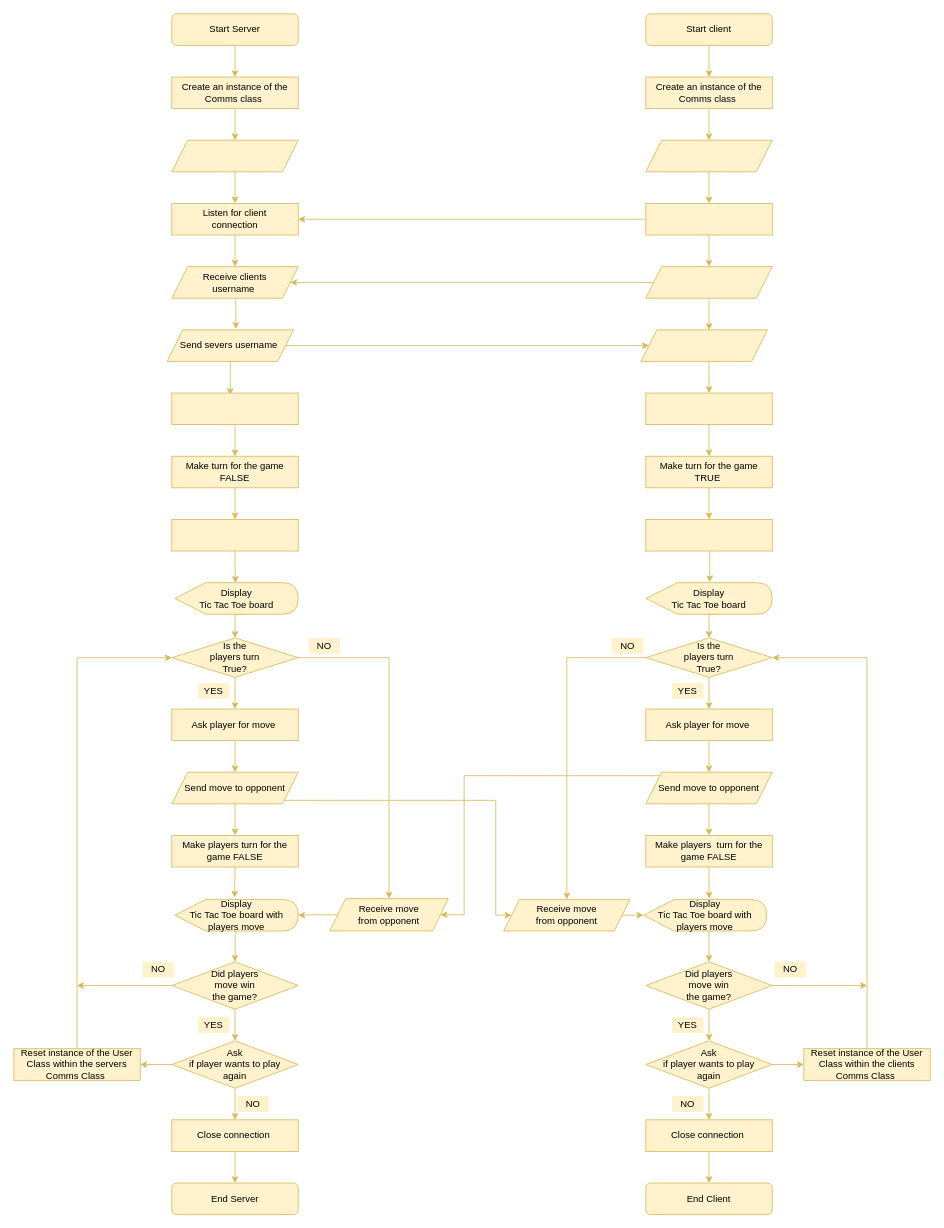
Some shapes in this 944 by 1228 pixel diagram are drawn without their labels. The shapes that lost their labels are listed below. From the top down, each one's centre as x and y in pixels, then its label:
At [234,155]: "Print Server IP adresss".
At [708,155]: "Input servers IP address".
At [708,219]: "Connect to server".
At [708,282]: "send clients username".
At [703,345]: "Receive Servers username".
At [234,408]: "Create an instance of the User Class within the servers Comms Class".
At [708,408]: "Create an instance of the User Class within the clients Comms class".
At [234,535]: "Create an instance of the Game Class within the servers Comms Class".
At [708,535]: "Create an instance of the Game Class within the clients Comms Class".
